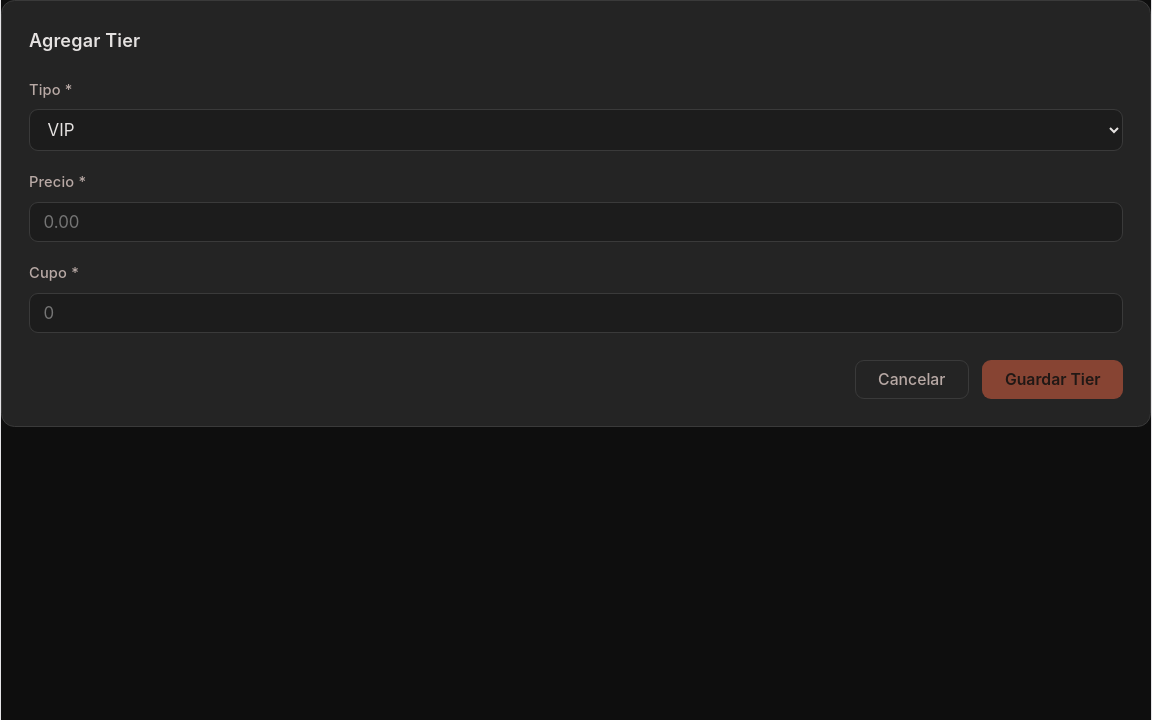
Scenario: TierForm › shows error when quota + current exceeds capacity
Type "110" into the number field labelled "Cupo *" at (576, 313), box [29,293,1123,333]
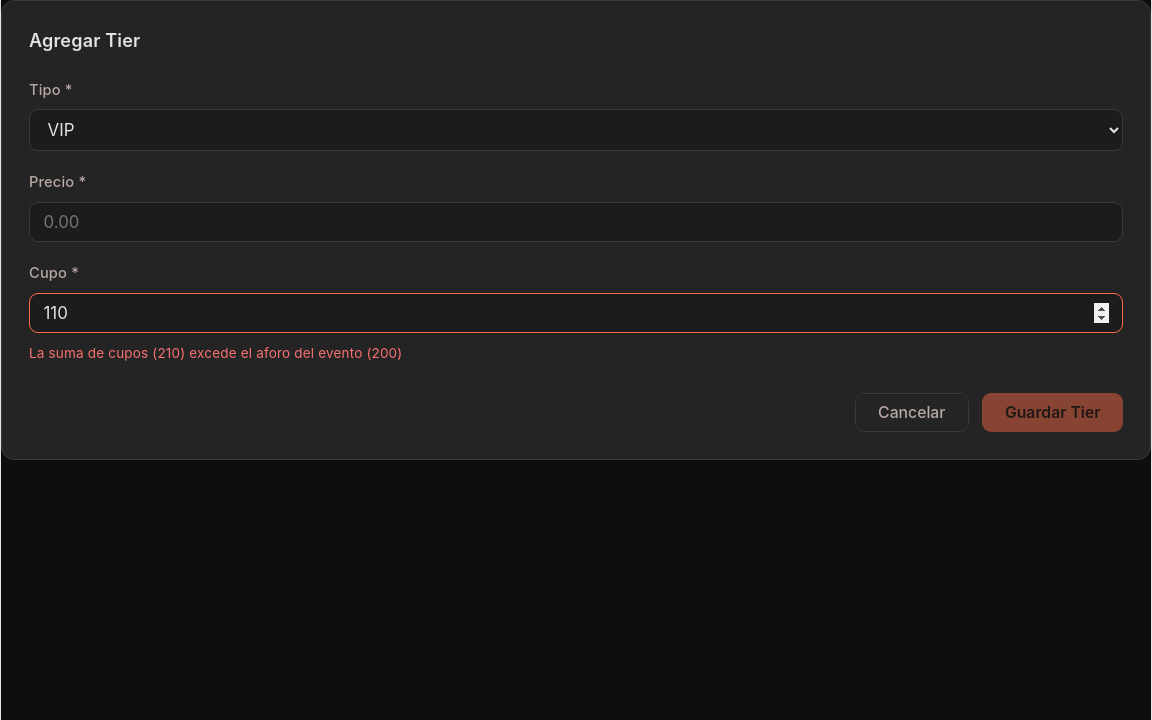
Result: the text "La suma de cupos (210) excede el aforo del evento (200)" is shown at [29,345,402,361]
